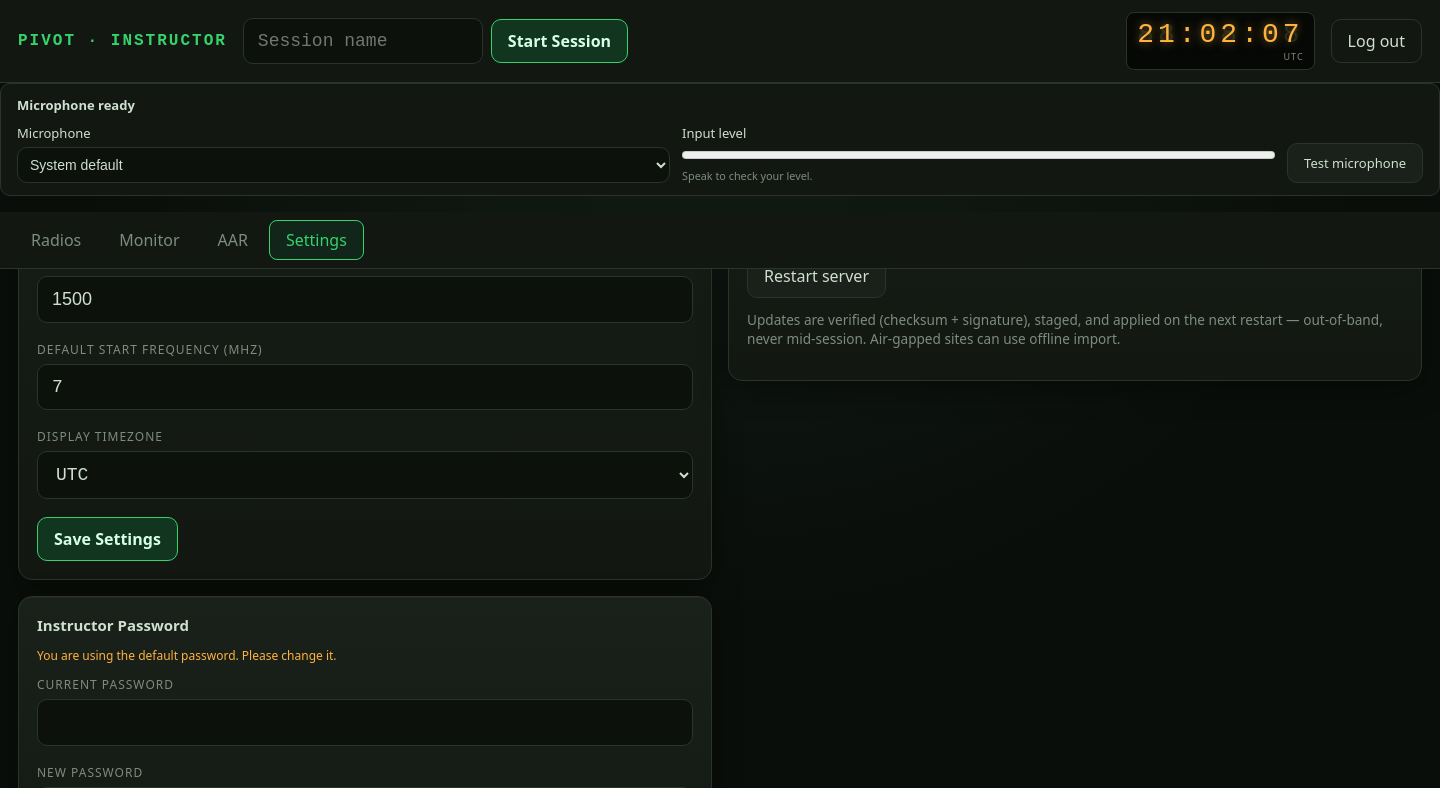
Test: instructor request failures › reports failed saves without claiming success and allows retry
(page scrolled)
Click the button "Save Settings".
click(107, 539)  # box top-left (37, 517), bottom-right (178, 561)
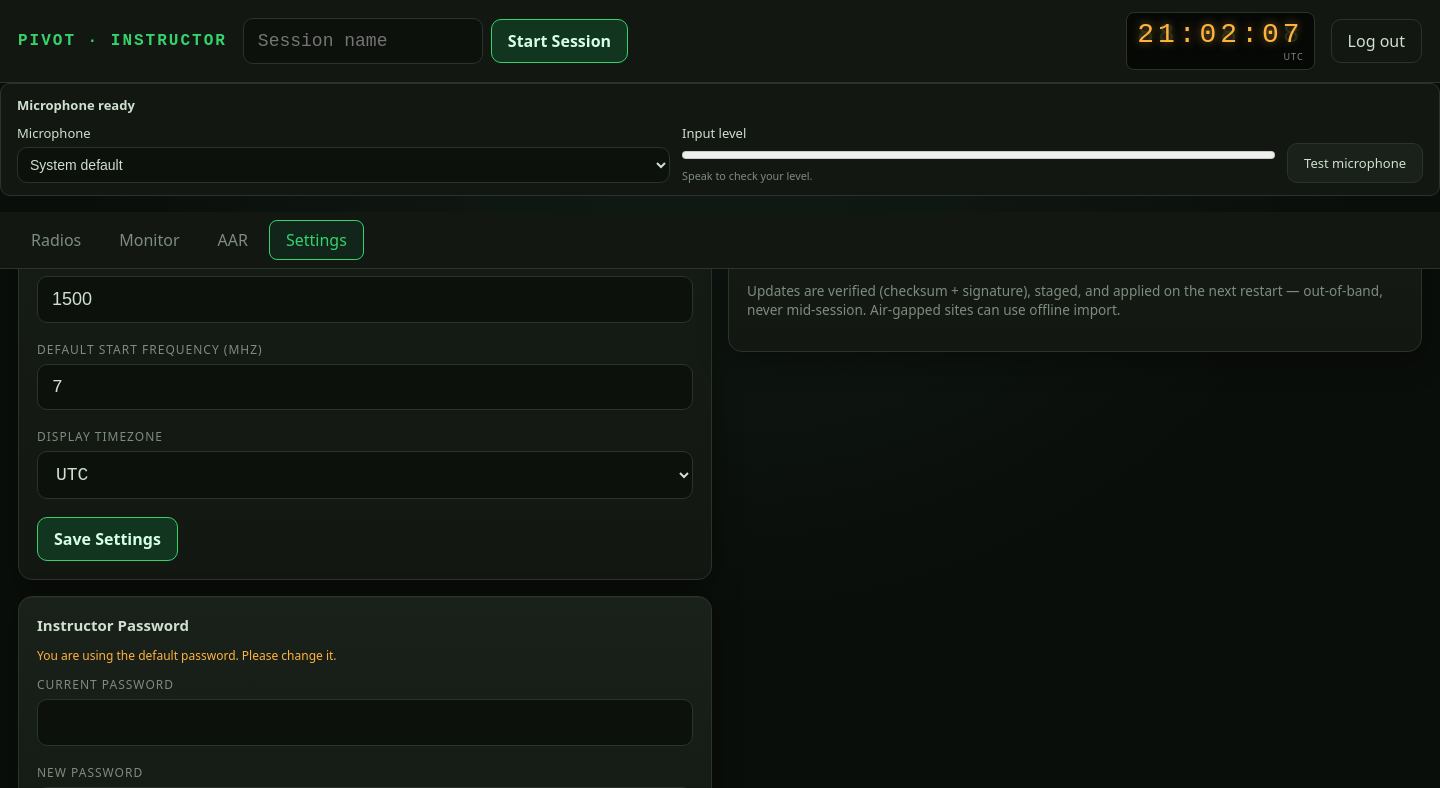
Check: the button "Saved ✓" is not shown
Click the button "Save Settings".
click(107, 539)  # box top-left (37, 517), bottom-right (178, 561)
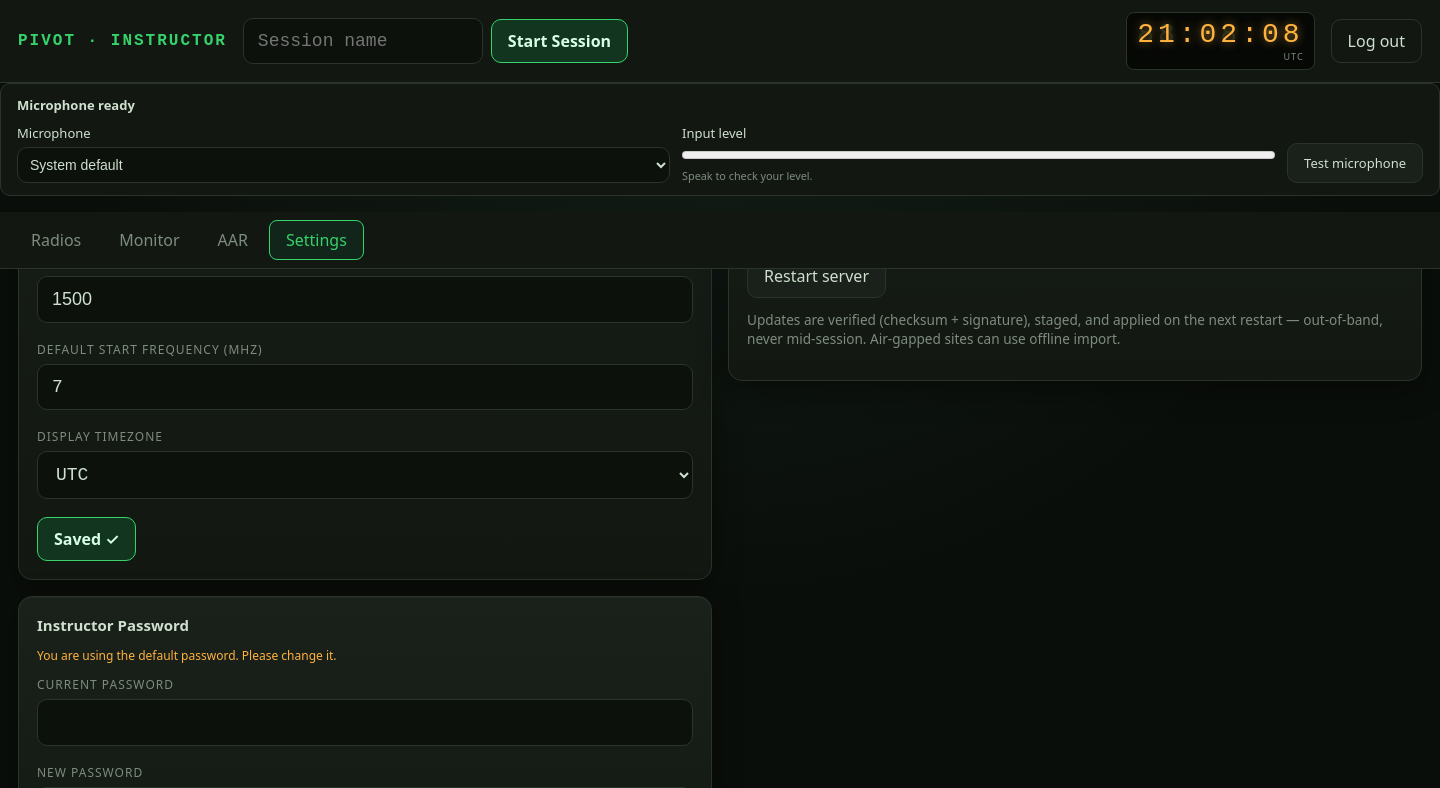
Check: the button "Saved ✓" is shown, box top-left (37, 517), bottom-right (136, 561)
